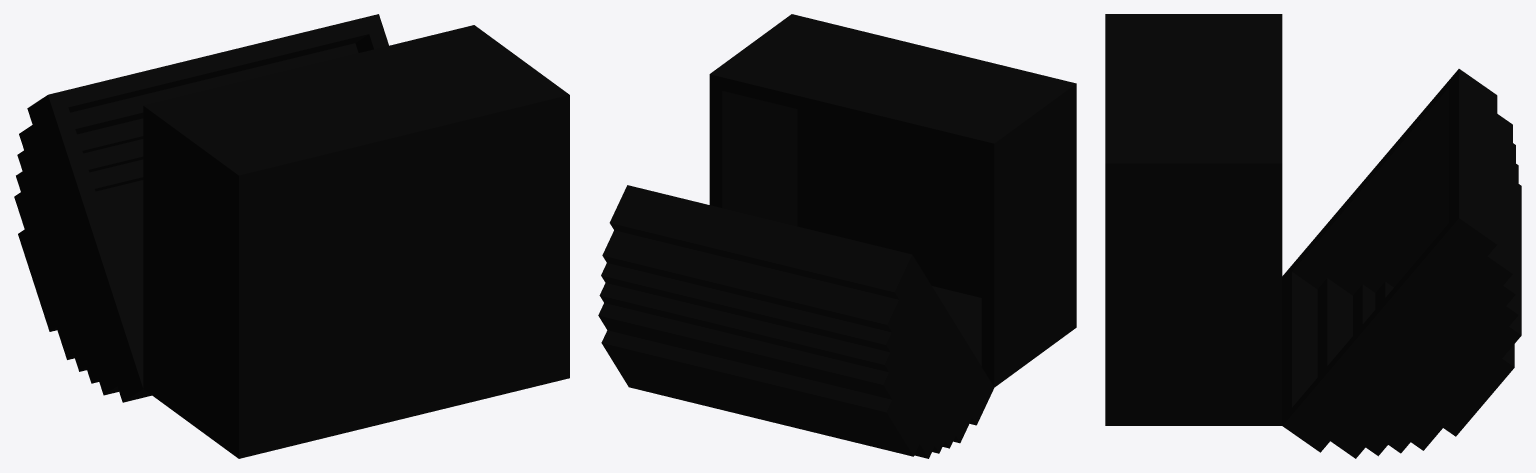
The model's file is Model_Chest.fbx.
3 renders of one model, left to right at view 1: azimuth 30°, elevation 25°; view 2: azimuth 150°, elevation 25°; view 3: azimuth 270°, elevation 25°, orthographic. The views are drawn at different scales.
Visible parts, largest first — view 1: Cube.007; view 2: Cube.007; view 3: Cube.007.
Part boxes in pixels (left/top/right/bottom): Cube.007: left=14, top=14, right=569, bottom=458; Cube.007: left=598, top=14, right=1076, bottom=458; Cube.007: left=1105, top=14, right=1521, bottom=458.
Size of the model in its own units: 110 by 101 by 129.
